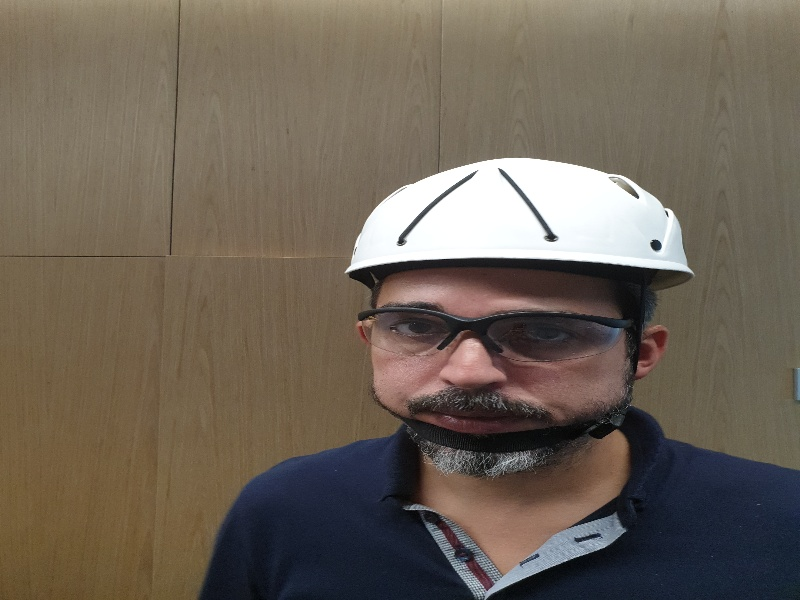Baret: (347, 157, 694, 276)
Gozluk: (358, 308, 637, 364)
